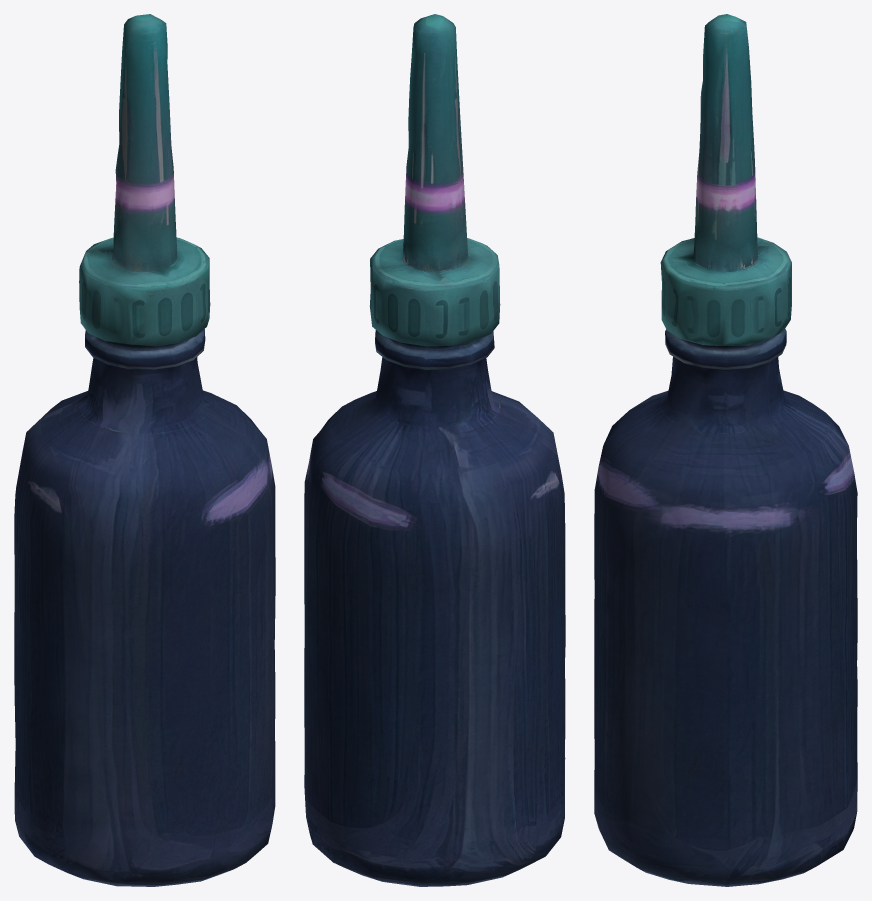
Rendered from Neon_Blue_Dropper_Bottle_1065.fbx.
The picture shows the model from 3 angles, left to right: view 1: azimuth 30°, elevation 25°; view 2: azimuth 150°, elevation 25°; view 3: azimuth 270°, elevation 25°; orthographic projection.
Parts seen in each view (by area): view 1: Neon_Blue_Dropper_Bottle_1065; view 2: Neon_Blue_Dropper_Bottle_1065; view 3: Neon_Blue_Dropper_Bottle_1065.
Boxes of the visible parts, x1,y1,x2,y2 form: Neon_Blue_Dropper_Bottle_1065: [14, 14, 275, 886]; Neon_Blue_Dropper_Bottle_1065: [304, 14, 565, 886]; Neon_Blue_Dropper_Bottle_1065: [594, 14, 857, 886].
Bounding box in the file's own units: 0.0729 × 0.25 × 0.0726.
Materials: 1 (1 with a texture image).
